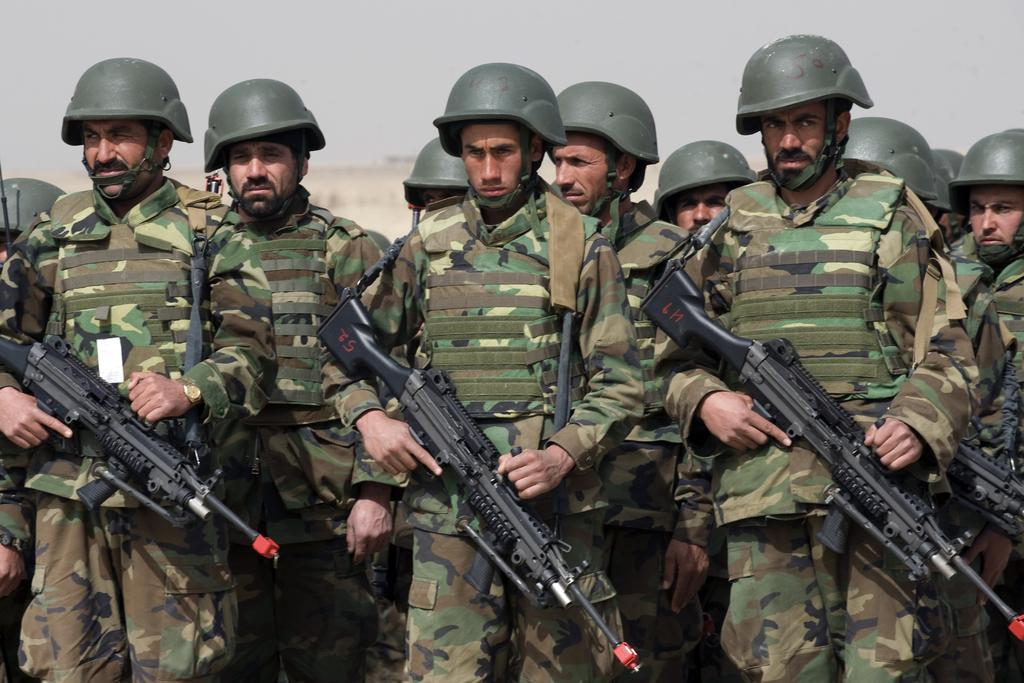Rifle: (635, 260, 1023, 641), (301, 309, 650, 683), (0, 324, 282, 563)
